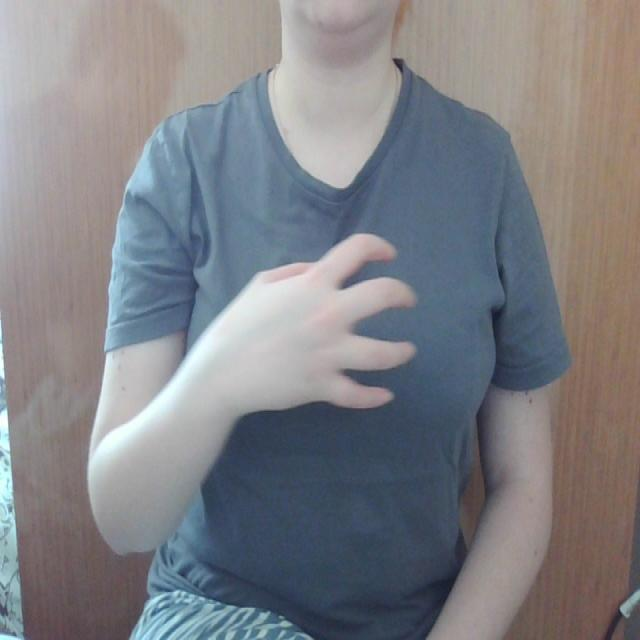Anne: (202, 222, 426, 422)
